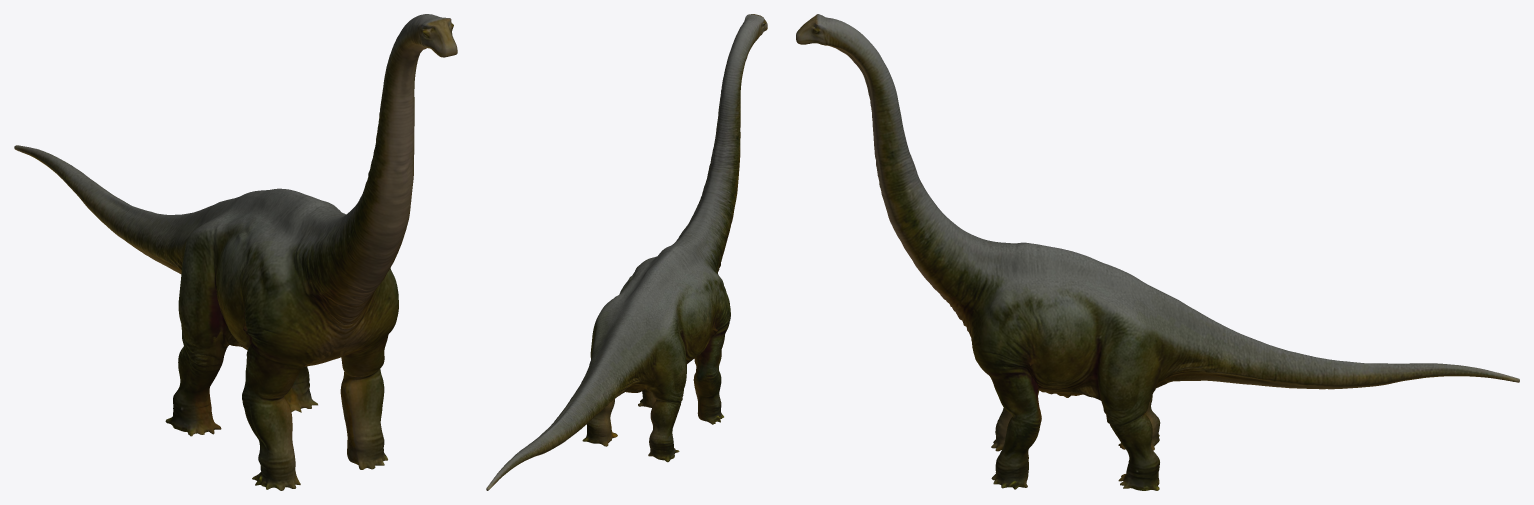
Rendered from Isanosaurus.glb.
The picture shows the model from 3 angles, left to right: view 1: azimuth 30°, elevation 25°; view 2: azimuth 150°, elevation 25°; view 3: azimuth 270°, elevation 25°; orthographic projection. The views are drawn at different scales.
Visible parts, largest first — view 1: tripo_node_42a0f50a-328c-45fc-8b3b-f32a7874328f; view 2: tripo_node_42a0f50a-328c-45fc-8b3b-f32a7874328f; view 3: tripo_node_42a0f50a-328c-45fc-8b3b-f32a7874328f.
Boxes of the visible parts, x1=… form: tripo_node_42a0f50a-328c-45fc-8b3b-f32a7874328f: x1=14, y1=14, x2=457, y2=490; tripo_node_42a0f50a-328c-45fc-8b3b-f32a7874328f: x1=486, y1=14, x2=767, y2=490; tripo_node_42a0f50a-328c-45fc-8b3b-f32a7874328f: x1=796, y1=14, x2=1519, y2=490.
Bounding box in the file's own units: 0.1904 × 0.6813 × 1.
1 material, 1 textured.
